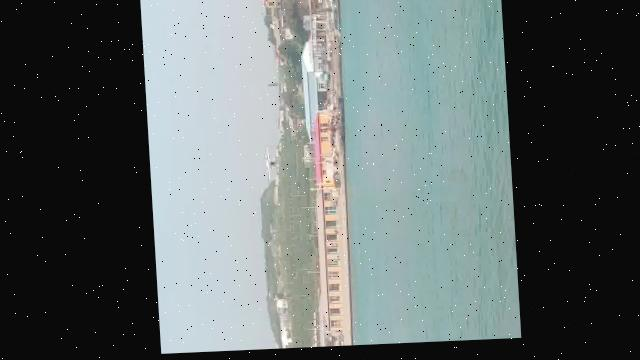drone: (259, 146, 274, 188)
